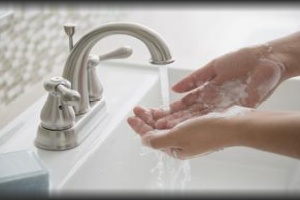washing hand: (78, 23, 268, 164)
